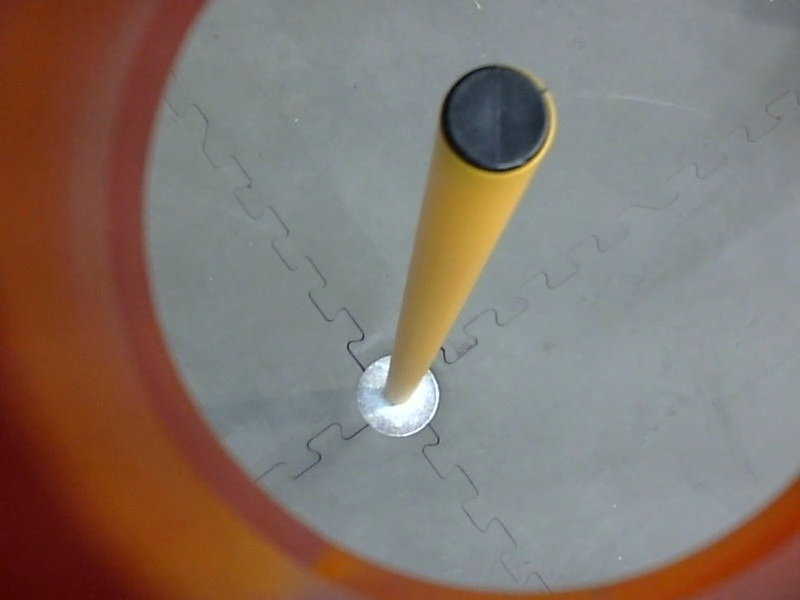tip: (429, 51, 562, 181)
